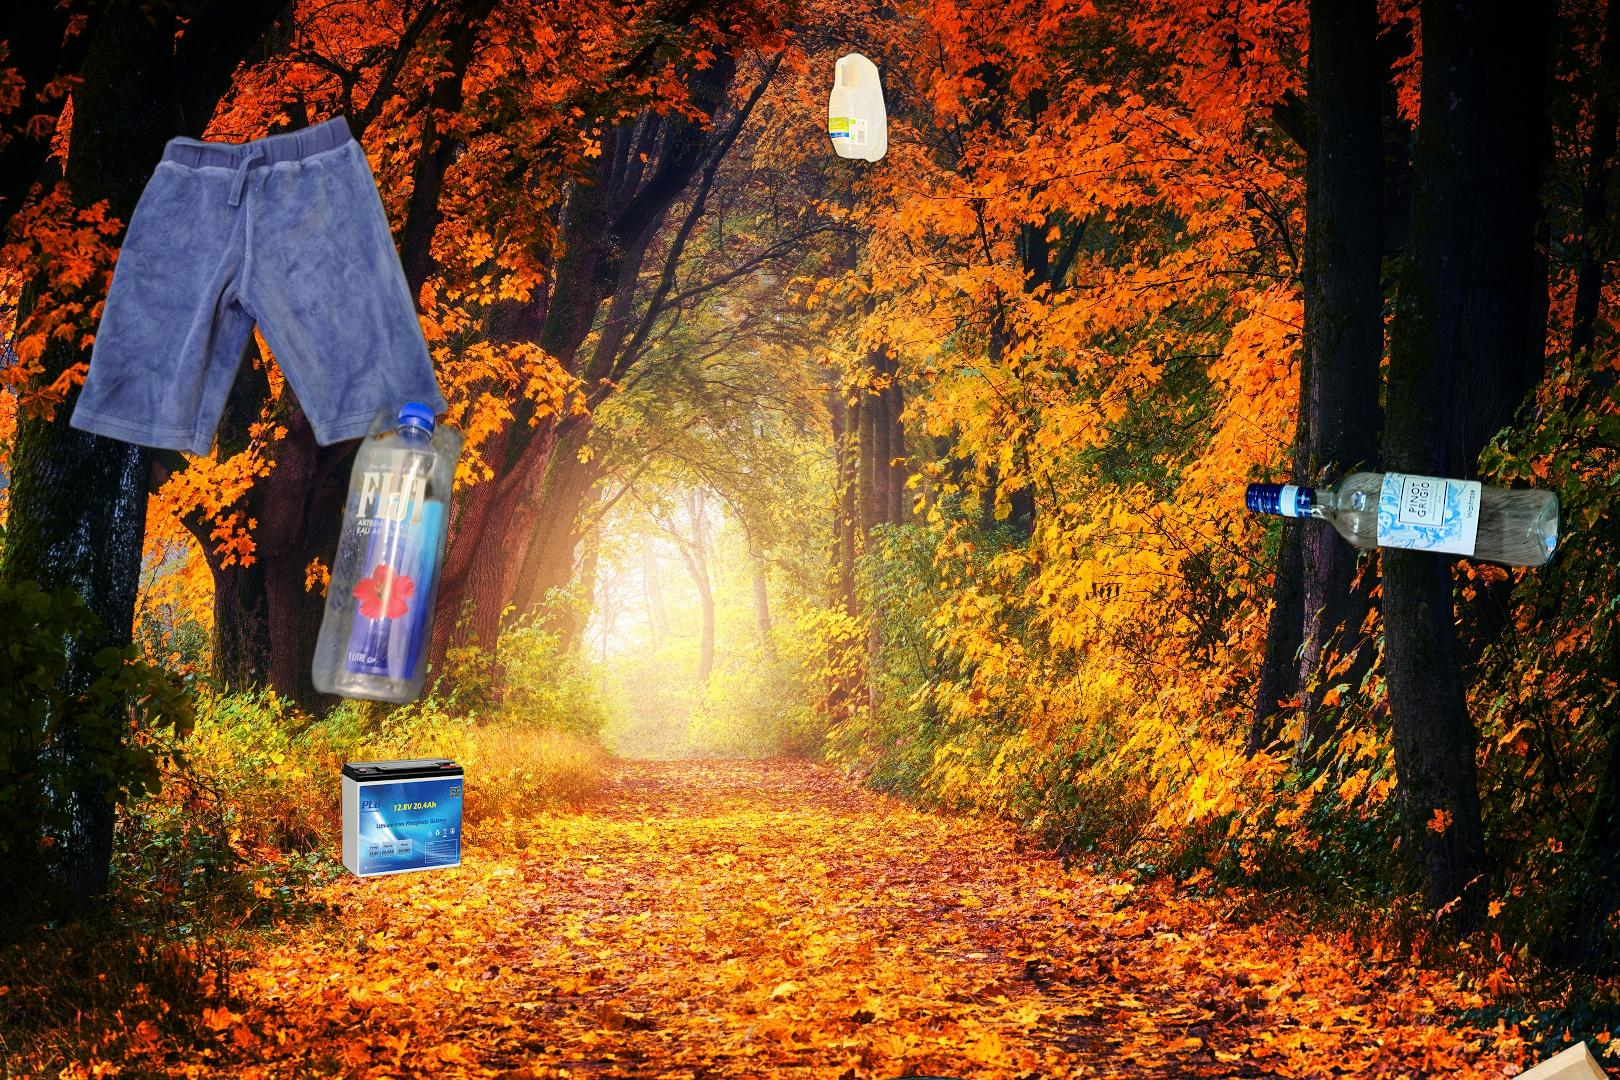battery: (339, 755, 466, 881), (828, 1073, 1053, 1080)
clothes: (66, 111, 454, 463)
glass: (1240, 465, 1567, 575)
paper-bag: (1430, 1015, 1620, 1080)
plastic-bottles: (307, 344, 501, 710), (823, 46, 893, 169)
